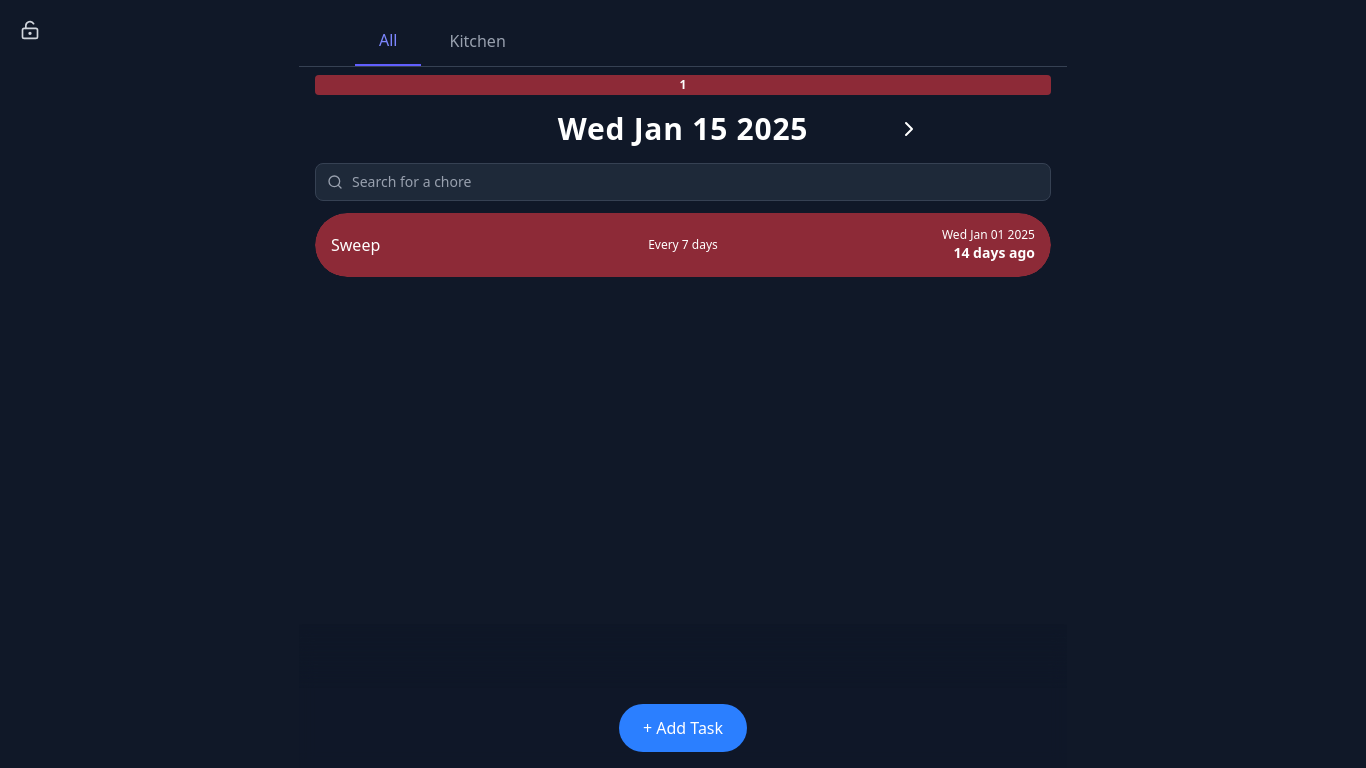
Test case: handleCompleteChore › rolls back and sets error when completeChore rejects
This screenshot has width=1366, height=768.
Click the text "Sweep" at [356, 245], box [331,234,380,256]
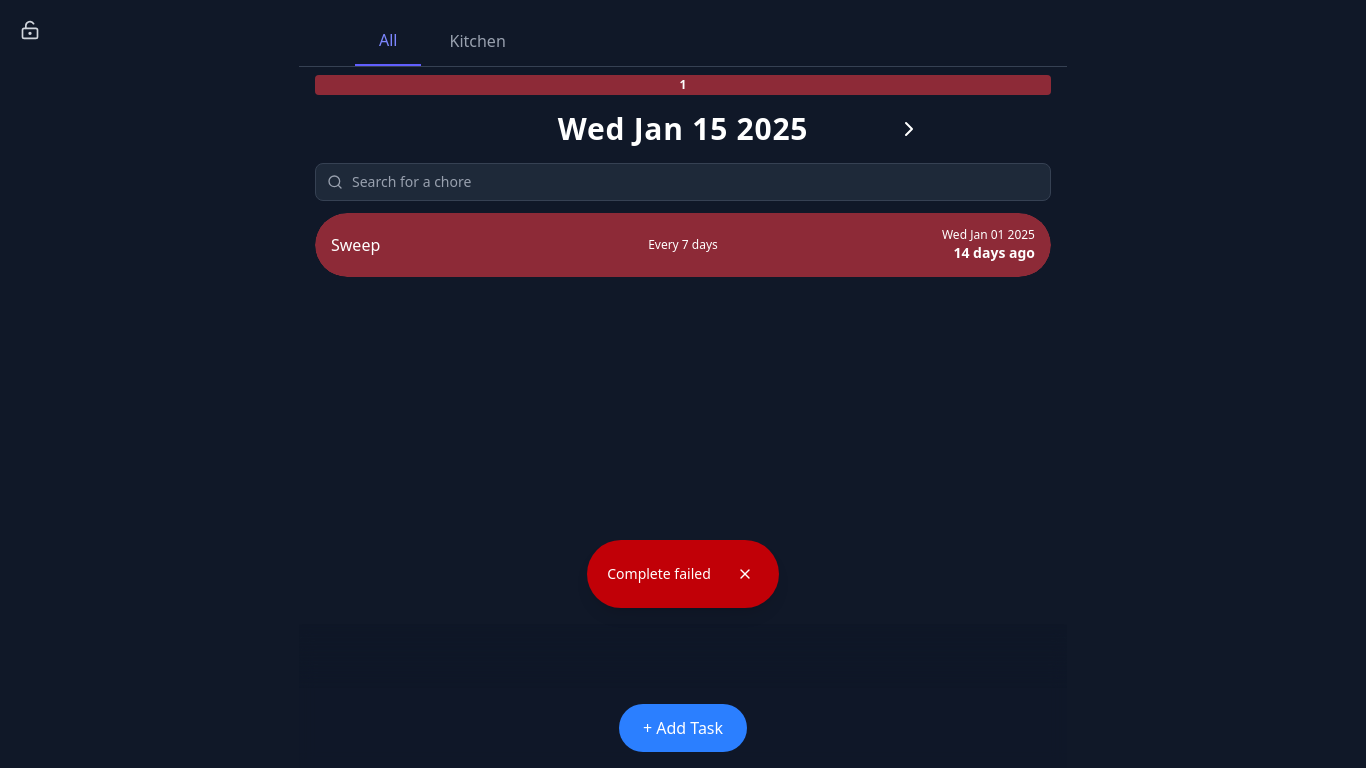
Expected: the text "Complete failed" is shown, [607,564,711,584]
